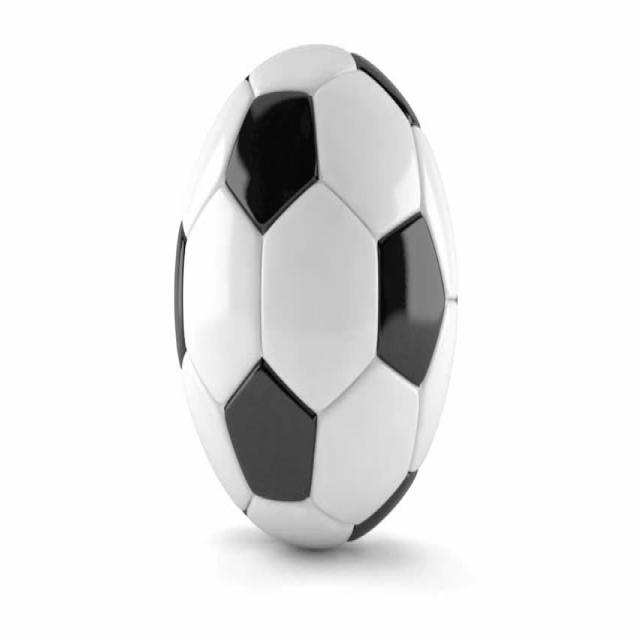ball: (152, 33, 478, 603)
